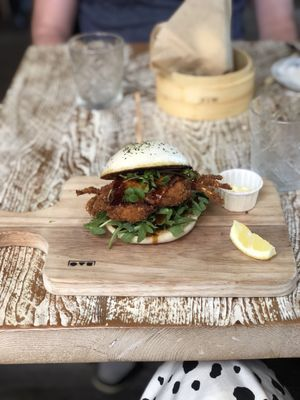pizza: (248, 79, 300, 283), (248, 85, 300, 194), (67, 33, 126, 109)
soup: (82, 141, 215, 247)
sushi: (217, 168, 264, 213), (271, 56, 300, 93)
taco: (230, 220, 277, 261)
